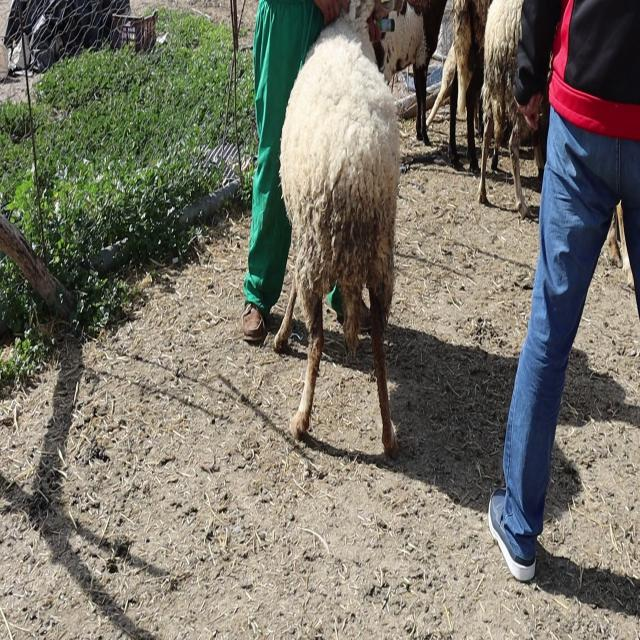Score_5: (273, 0, 400, 457)
